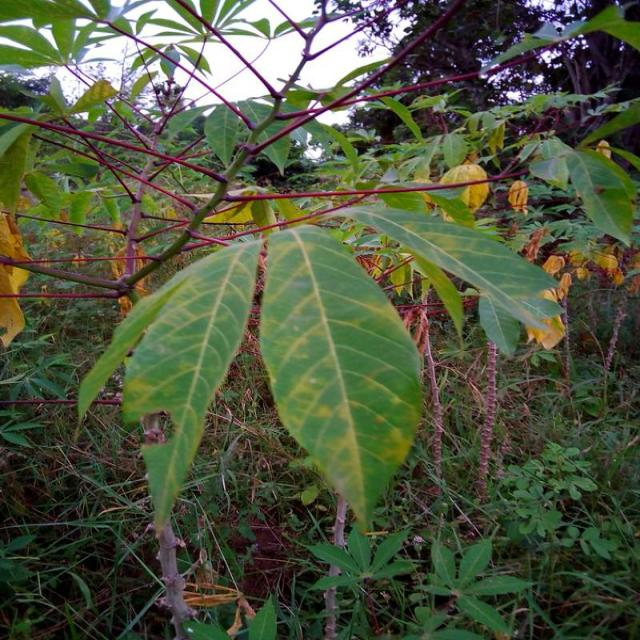cassava leaf: (79, 235, 264, 534), (259, 223, 425, 533)
